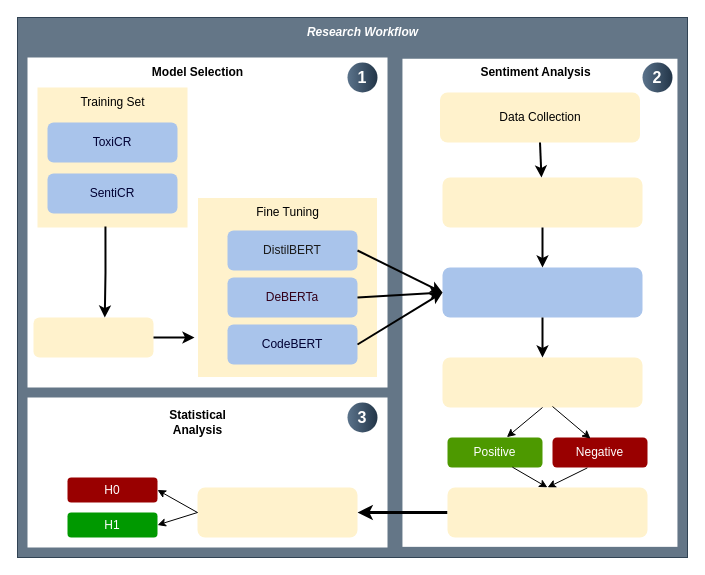
Image size: 705x575. Some labels were removed from this diagram. Here are the shapes that lost their labels. From the top down, the box of each, then its label:
(442, 177, 642, 227): Raw Data Cleaning
(442, 267, 642, 317): Selected Model
(33, 317, 153, 357): Preprocessing
(442, 357, 642, 407): Sentiment Classification
(197, 487, 357, 537): Hypothesis Testing
(447, 487, 647, 537): PR Sentiment Evaluation
